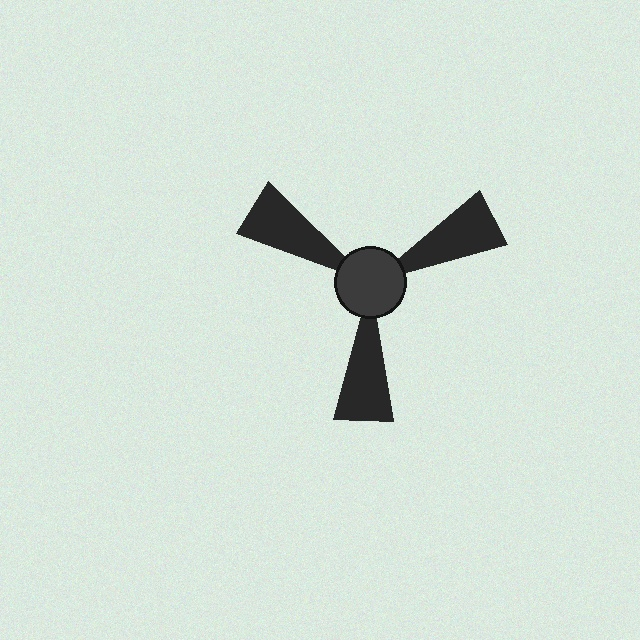fan: (201, 113, 539, 451)
